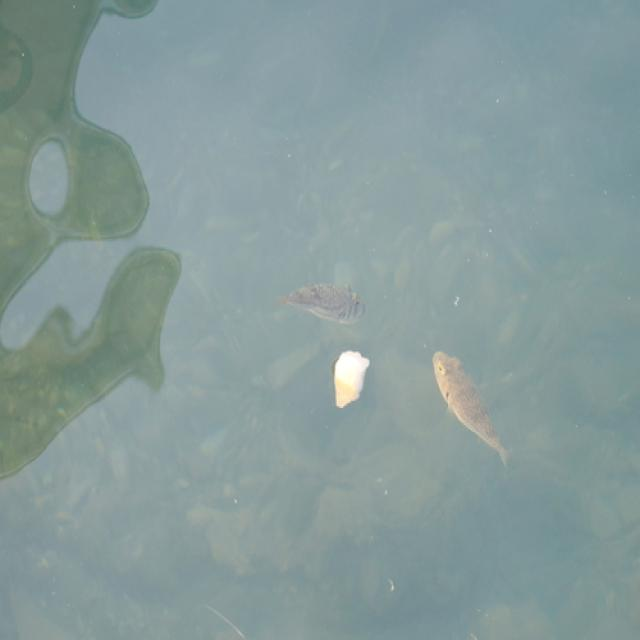Balik: (433, 352, 508, 465), (278, 284, 364, 324)
